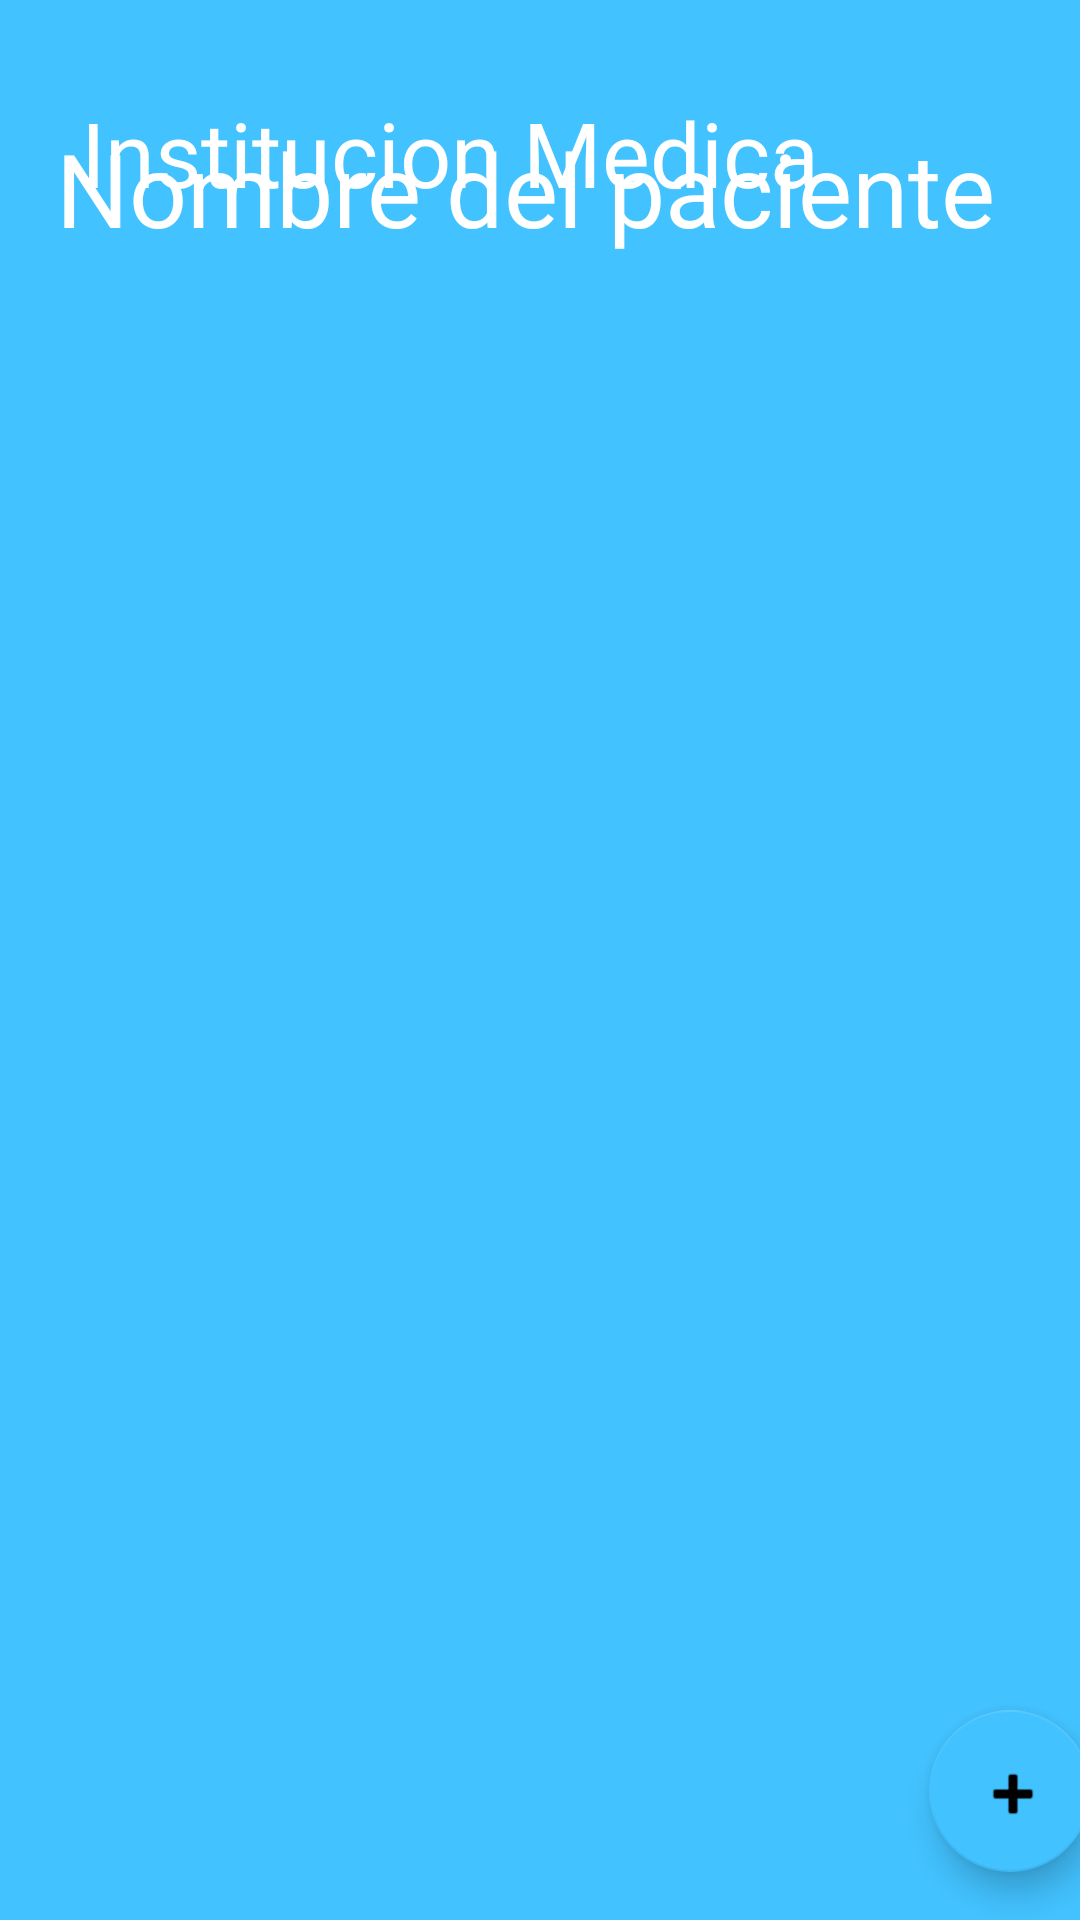

Icons on this 1080×1920 Android screen, each with the point to tap as (x,y):
add: (1007,1791)
